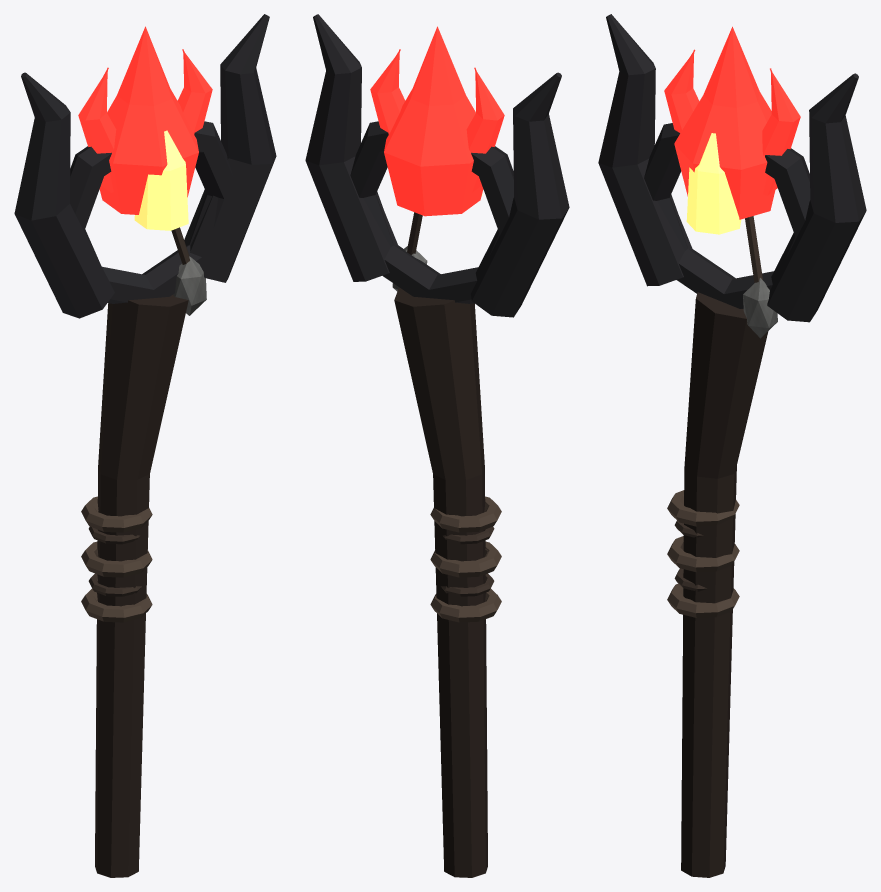
File: evil_staff.glb
3 renders of one model, left to right at view 1: azimuth 30°, elevation 25°; view 2: azimuth 150°, elevation 25°; view 3: azimuth 330°, elevation 25°, orthographic.
Parts seen in each view (by area): view 1: Twisted dark staff shaft, Staff crooked claw, Staff crooked claw.001, Red magical flame, Iron staff crown, Bright flame heart, Curling flame tongue, Curling flame tongue.001, Staff grip wrap.002, Woodland staff carved seed charm, Staff grip wrap, Staff grip wrap.001; view 2: Twisted dark staff shaft, Staff crooked claw, Red magical flame, Staff crooked claw.001, Iron staff crown, Curling flame tongue, Curling flame tongue.001, Staff grip wrap.002, Staff grip wrap, Staff grip wrap.001; view 3: Twisted dark staff shaft, Staff crooked claw.001, Staff crooked claw, Red magical flame, Iron staff crown, Bright flame heart, Curling flame tongue.001, Curling flame tongue, Woodland staff carved seed charm, Staff grip wrap, Staff grip wrap.001, Staff grip wrap.002 (+1 smaller).
Part boxes in pixels (x1,y1,x2,y2): Twisted dark staff shaft: (95, 294, 188, 877); Staff crooked claw: (14, 72, 114, 318); Staff crooked claw.001: (184, 14, 276, 282); Red magical flame: (99, 26, 198, 214); Iron staff crown: (70, 121, 233, 303); Bright flame heart: (134, 130, 188, 230); Curling flame tongue: (78, 67, 116, 192); Curling flame tongue.001: (177, 49, 212, 134); Staff grip wrap.002: (81, 496, 152, 532); Woodland staff carved seed charm: (173, 256, 206, 315); Staff grip wrap: (81, 589, 152, 622); Staff grip wrap.001: (81, 541, 152, 577); Twisted dark staff shaft: (394, 288, 487, 877); Staff crooked claw: (470, 72, 569, 317); Red magical flame: (384, 26, 483, 216); Staff crooked claw.001: (305, 14, 398, 281); Iron staff crown: (350, 121, 513, 303); Curling flame tongue: (466, 67, 504, 192); Curling flame tongue.001: (370, 49, 405, 134); Staff grip wrap.002: (430, 496, 501, 532); Staff grip wrap: (430, 588, 501, 622); Staff grip wrap.001: (430, 541, 501, 577); Twisted dark staff shaft: (681, 292, 768, 877); Staff crooked claw.001: (767, 73, 866, 322); Staff crooked claw: (598, 14, 693, 286); Red magical flame: (674, 26, 776, 219); Iron staff crown: (644, 123, 810, 308); Bright flame heart: (686, 133, 741, 234); Curling flame tongue.001: (762, 68, 800, 195); Curling flame tongue: (664, 49, 699, 132); Woodland staff carved seed charm: (743, 278, 777, 338); Staff grip wrap: (667, 583, 739, 617); Staff grip wrap.001: (667, 536, 739, 572); Staff grip wrap.002: (667, 490, 739, 526).
Bounding box in the file's own units: 0.714 × 2.23 × 0.2845.
Materials: 7 (1 with a texture image).
